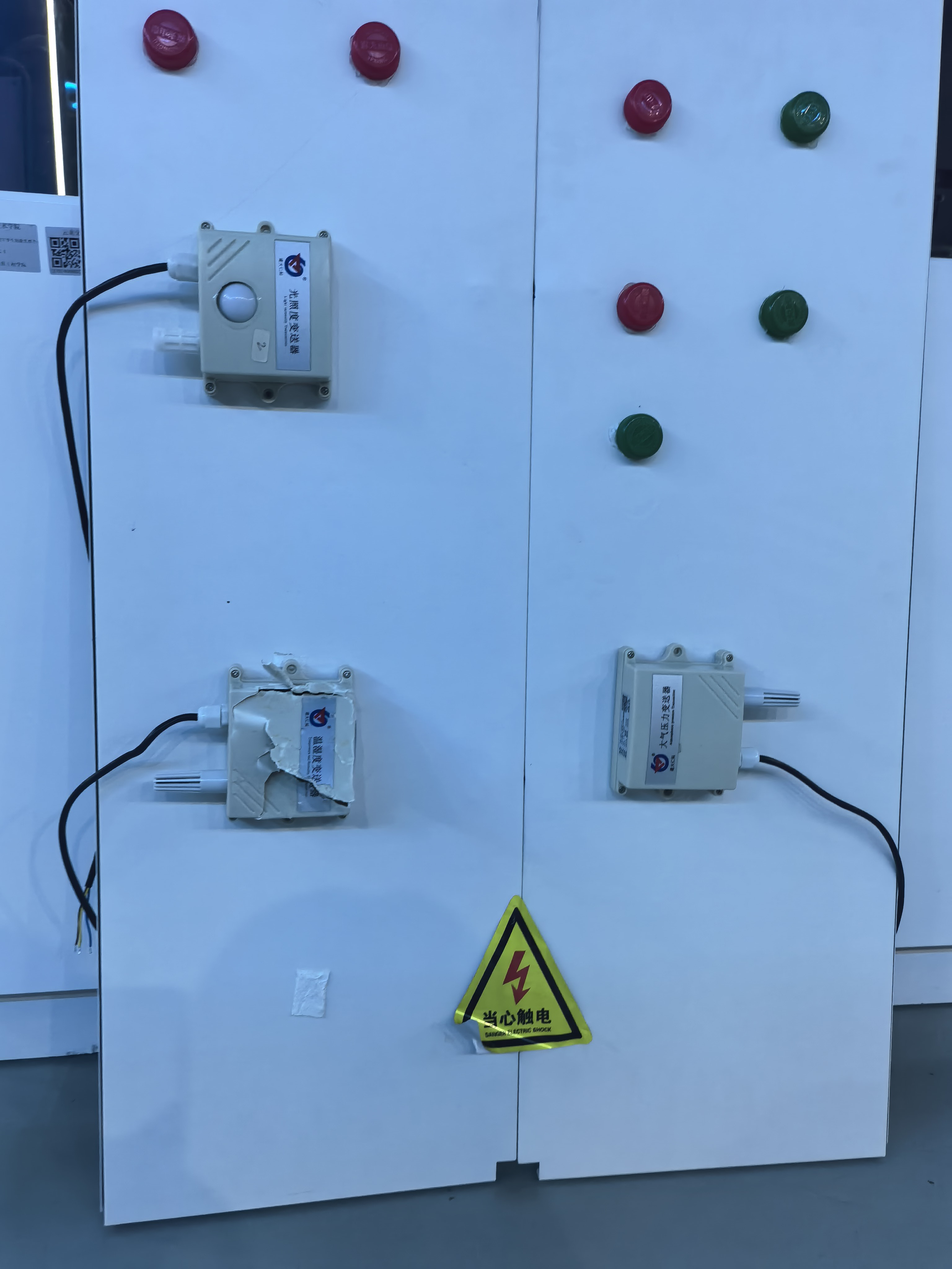red_warning: (321, 11, 447, 96), (128, 6, 226, 73), (608, 58, 679, 149), (603, 247, 670, 330)
sensor_damage: (137, 633, 386, 850)
